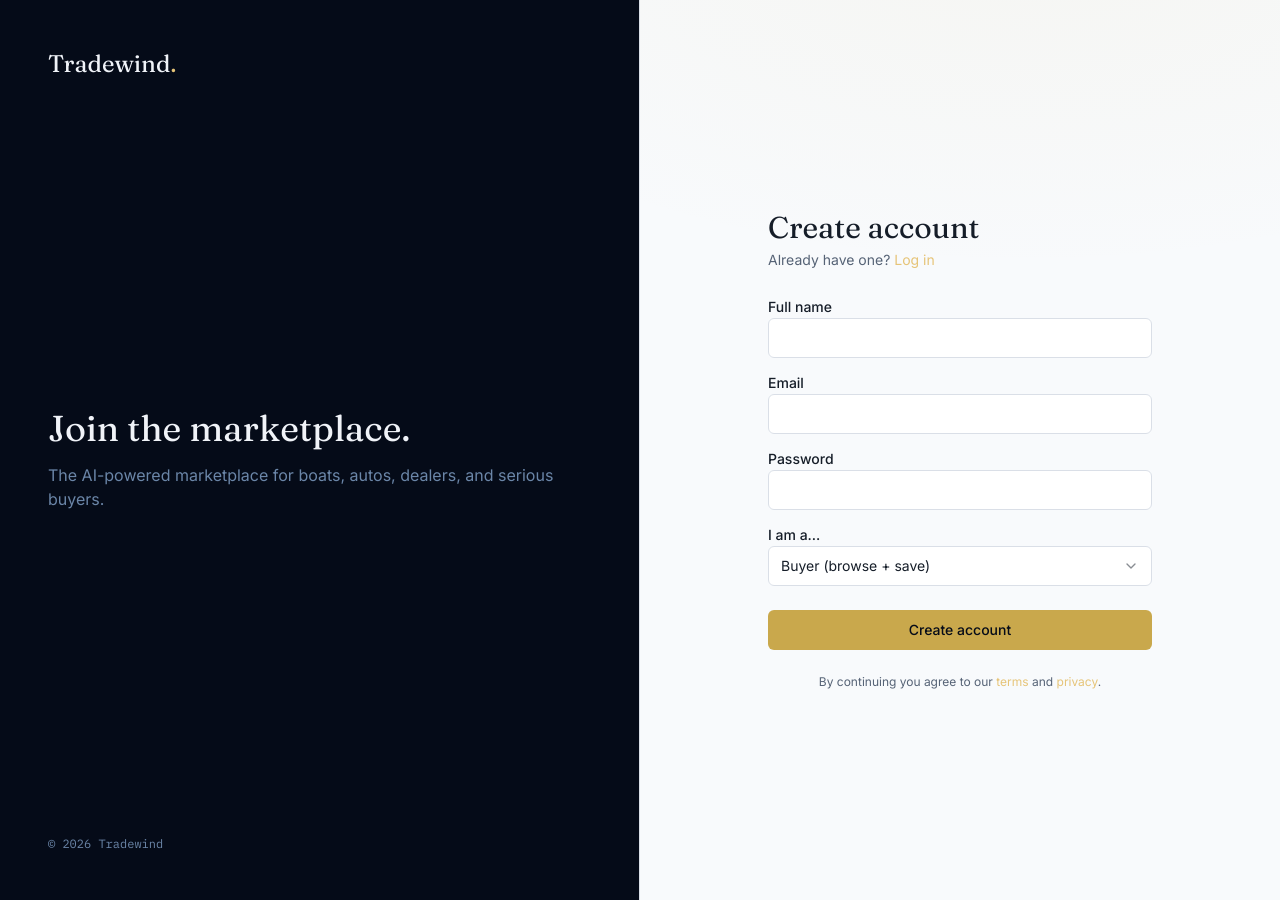
Scenario: Form validation › Signup requires a name
Click the button "Create account": (960, 630) top-left (768, 610), bottom-right (1152, 650)
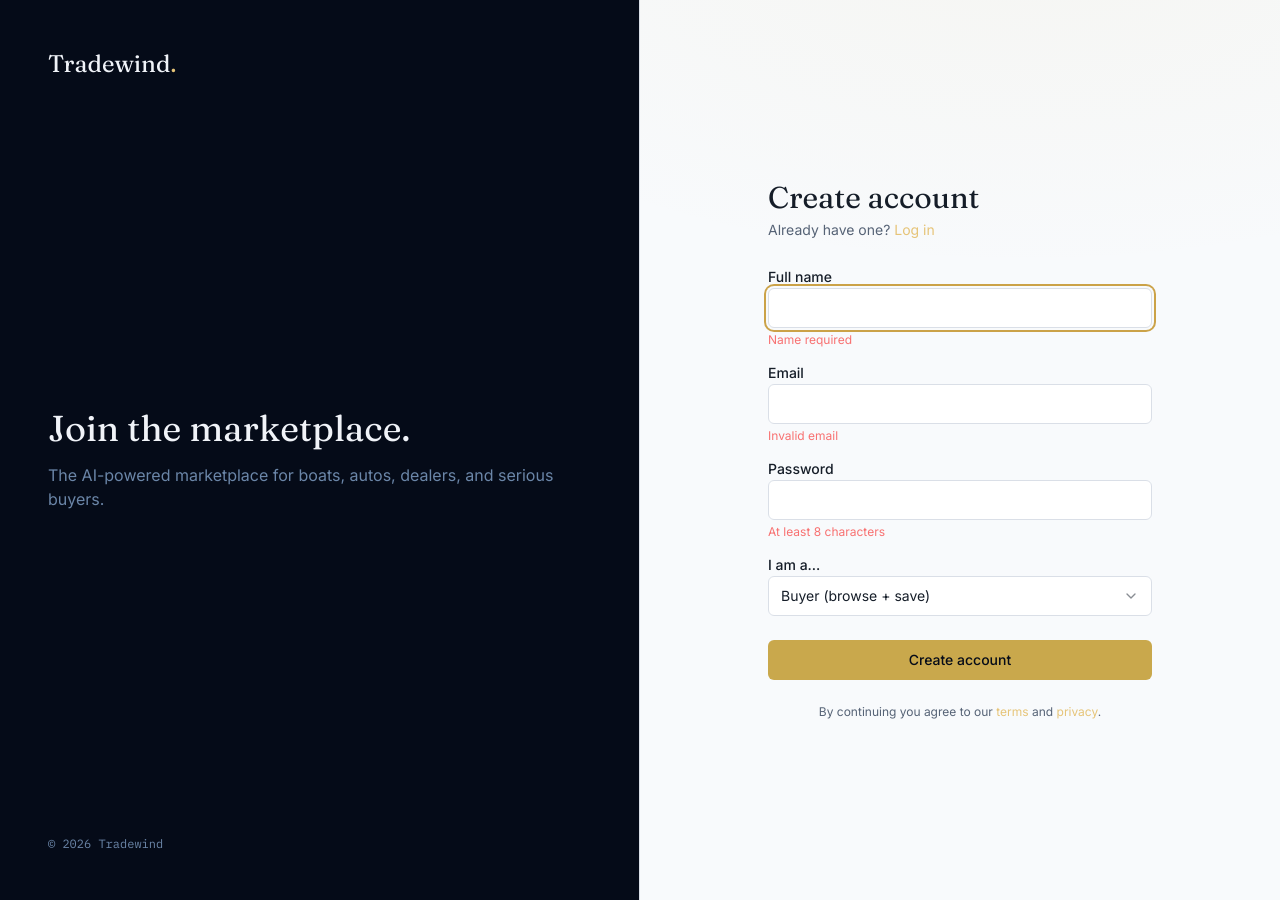
Expected: the text "Name required" is shown, top-left (768, 332), bottom-right (852, 347)
